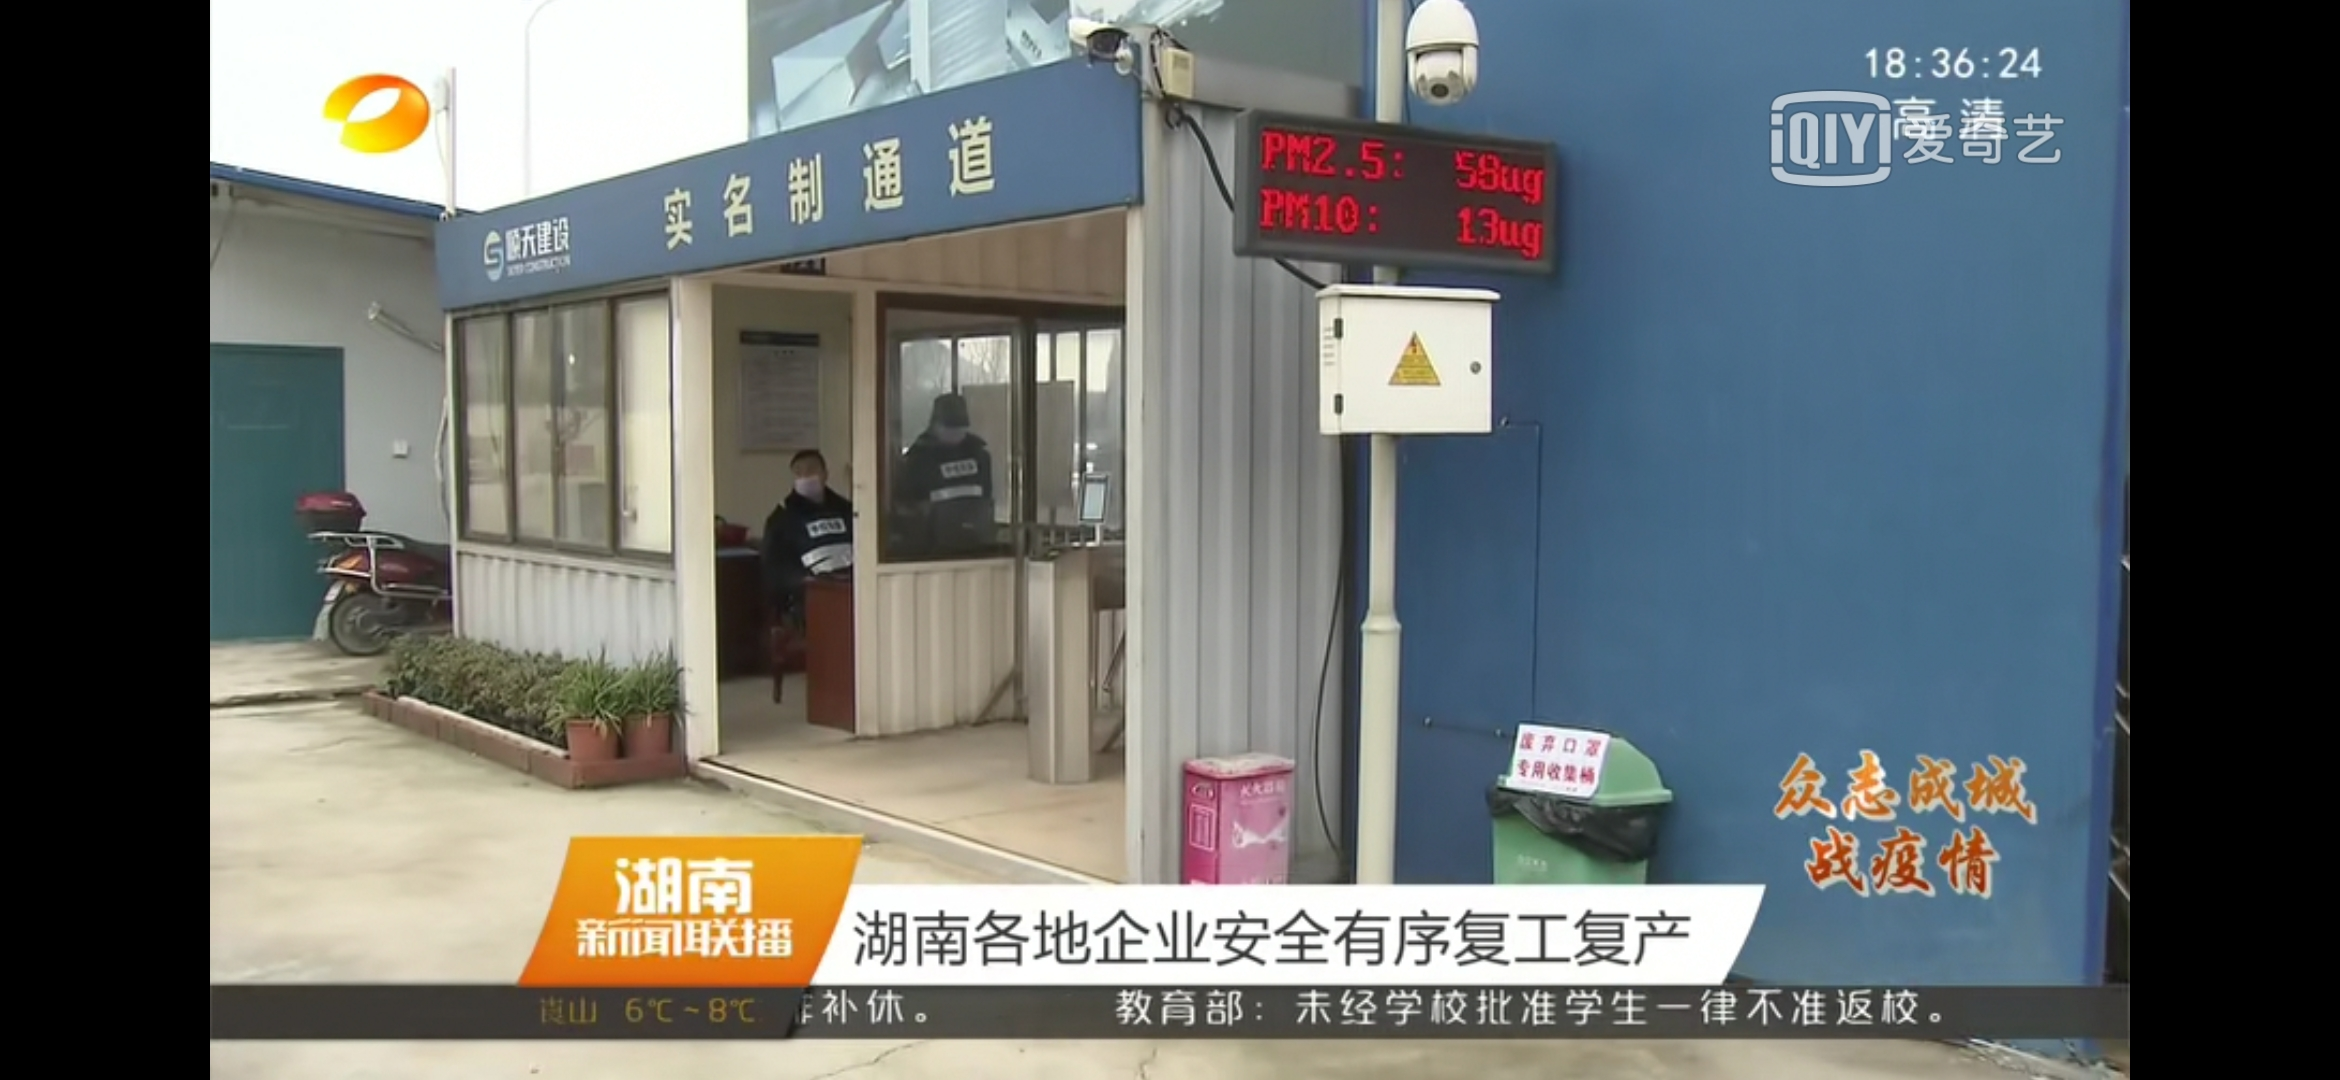correctlyWear: (925, 406, 977, 452), (785, 458, 831, 504)
